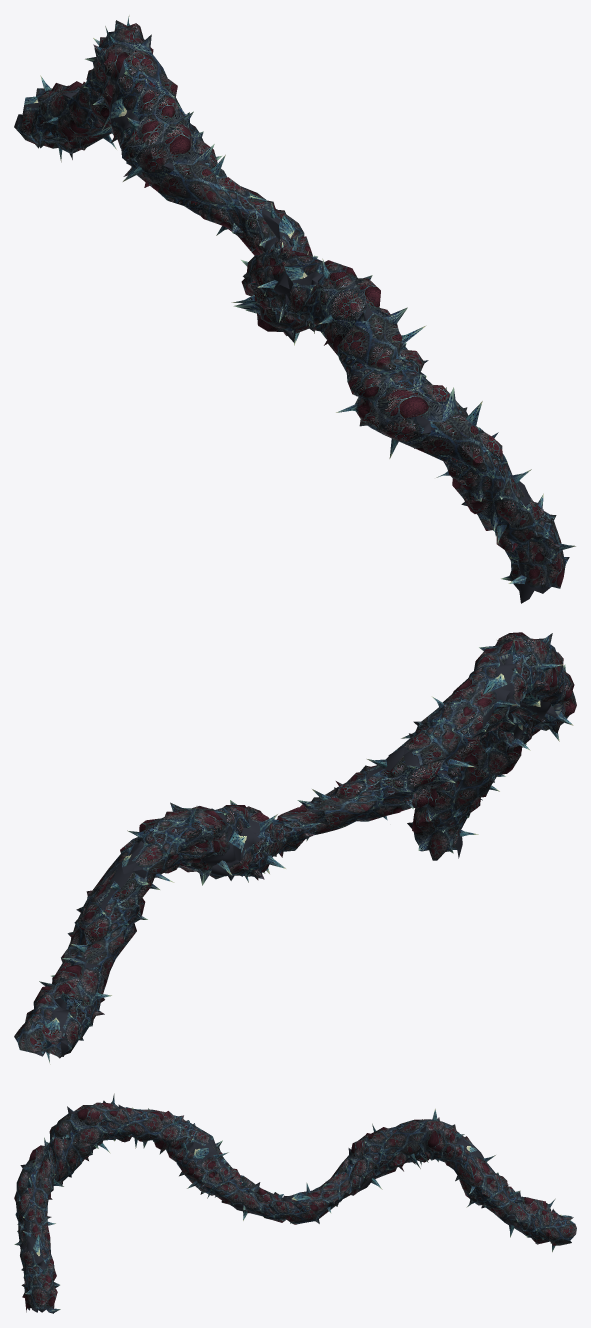
The model's file is L03_Heltree12.fbx.
3 renders of one model, top to bottom at view 1: azimuth 30°, elevation 25°; view 2: azimuth 150°, elevation 25°; view 3: azimuth 270°, elevation 25°, orthographic. The views are drawn at different scales.
Visible parts, largest first — view 1: LODGroup_2_MainMesh_1_SubMesh_1, LODGroup_2_MainMesh_1_SubMesh_2; view 2: LODGroup_2_MainMesh_1_SubMesh_2, LODGroup_2_MainMesh_1_SubMesh_1; view 3: LODGroup_2_MainMesh_1_SubMesh_1, LODGroup_2_MainMesh_1_SubMesh_2.
Boxes of the visible parts, x1,y1,x2,y2 form: LODGroup_2_MainMesh_1_SubMesh_1: [36, 15, 575, 590]; LODGroup_2_MainMesh_1_SubMesh_2: [14, 20, 569, 603]; LODGroup_2_MainMesh_1_SubMesh_2: [35, 633, 569, 1058]; LODGroup_2_MainMesh_1_SubMesh_1: [14, 632, 576, 1064]; LODGroup_2_MainMesh_1_SubMesh_1: [14, 1093, 576, 1313]; LODGroup_2_MainMesh_1_SubMesh_2: [20, 1100, 571, 1312].
Size of the model in its own units: 626 by 916 by 2484.
